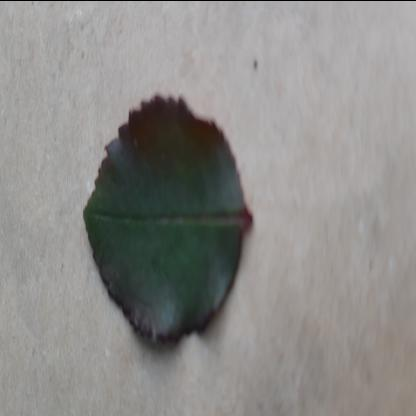normal: (80, 89, 250, 349)
